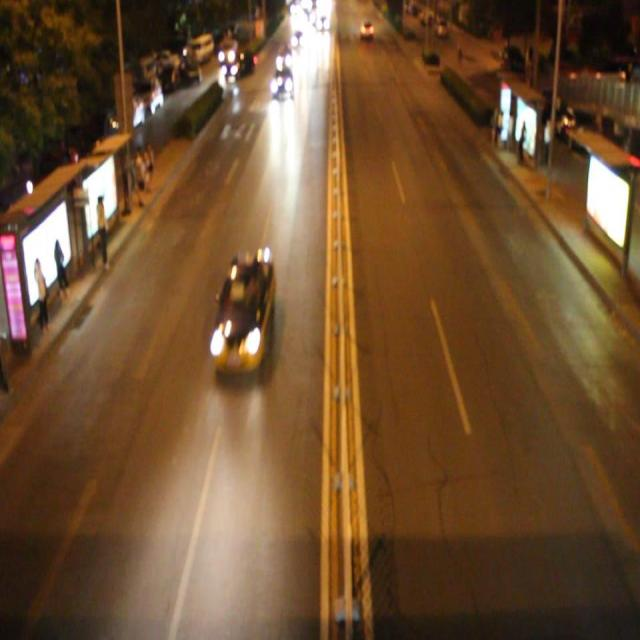car: (213, 247, 274, 376), (271, 66, 295, 101)
